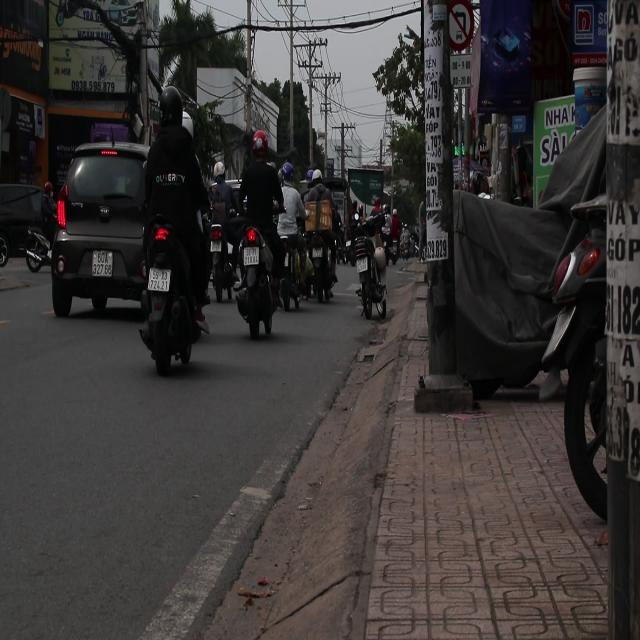car: (51, 145, 150, 319), (0, 185, 53, 269)
motorbike: (137, 213, 205, 375), (224, 216, 279, 339), (353, 237, 388, 321), (282, 223, 313, 308), (24, 224, 54, 274)
